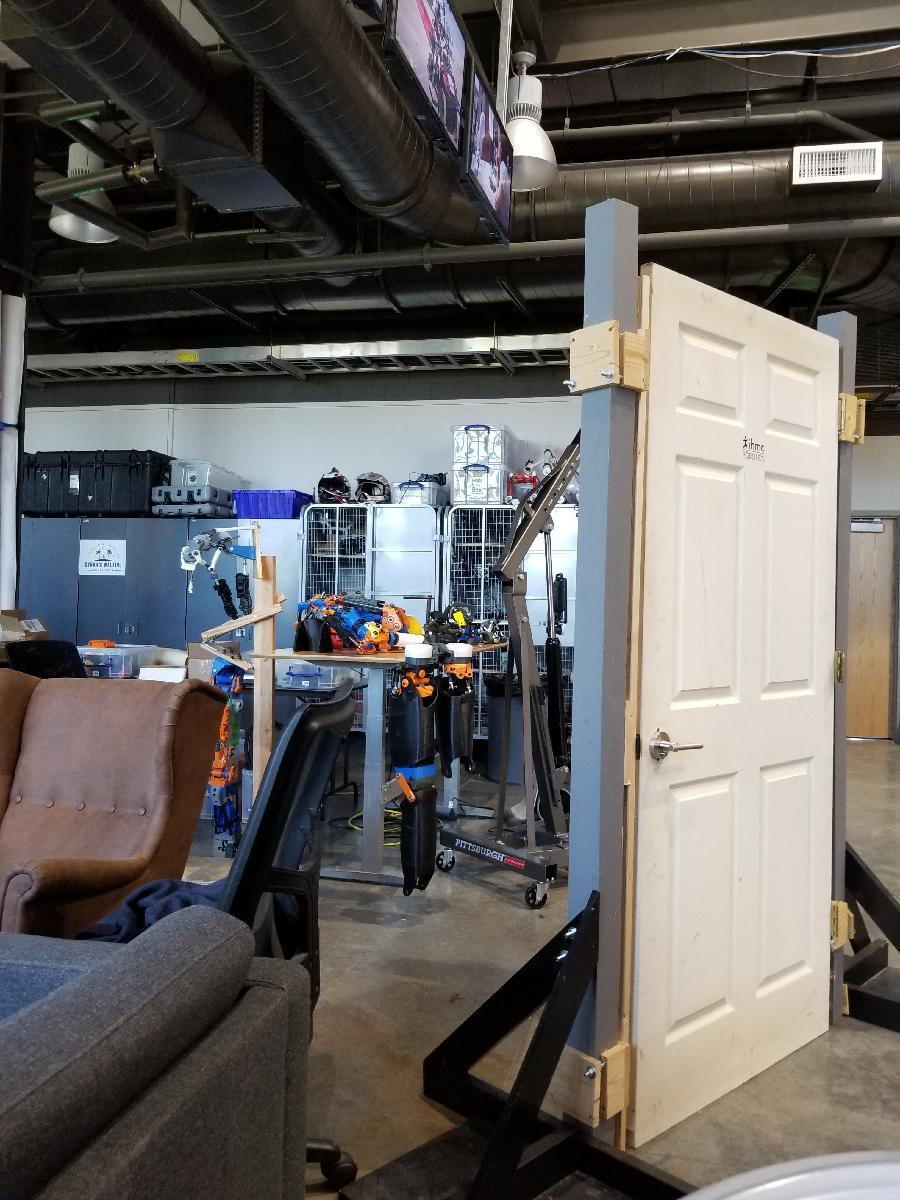door: (638, 255, 837, 1124), (842, 511, 897, 745)
handle: (652, 728, 708, 762)
